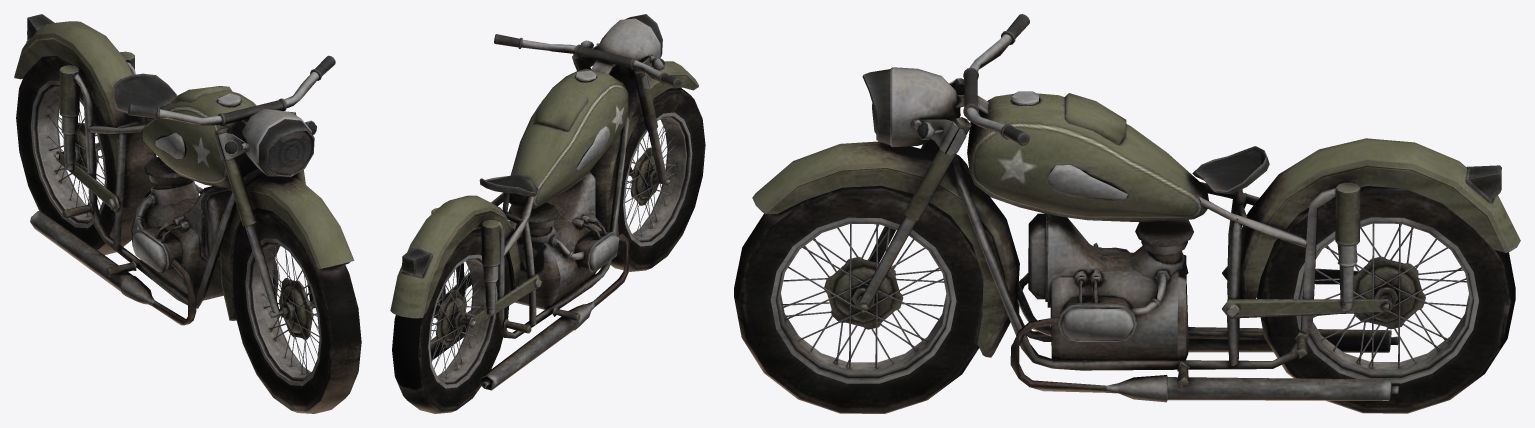
File: v_ural.glb
3 views of the same model, side by side, from view 1: azimuth 30°, elevation 25°; view 2: azimuth 150°, elevation 25°; view 3: azimuth 270°, elevation 25° (orthographic). The views are drawn at different scales.
Parts seen in each view (by area): view 1: bike__BikeBike_0, Indicator__BikeGlass_0; view 2: bike__BikeBike_0; view 3: bike__BikeBike_0.
Part boxes in pixels (box(x1,y1,x2,y2)): bike__BikeBike_0: box(14, 14, 361, 413); Indicator__BikeGlass_0: box(224, 121, 316, 175); bike__BikeBike_0: box(390, 14, 705, 413); bike__BikeBike_0: box(734, 14, 1520, 413).
Size of the model in its own units: 1.04 by 1.34 by 2.82.
2 materials, 2 textured.
